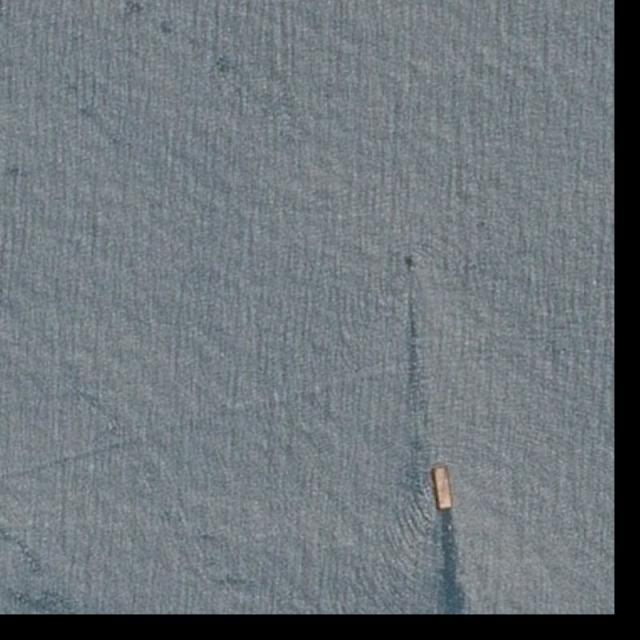ship: (432, 461, 454, 512), (408, 254, 415, 271)
